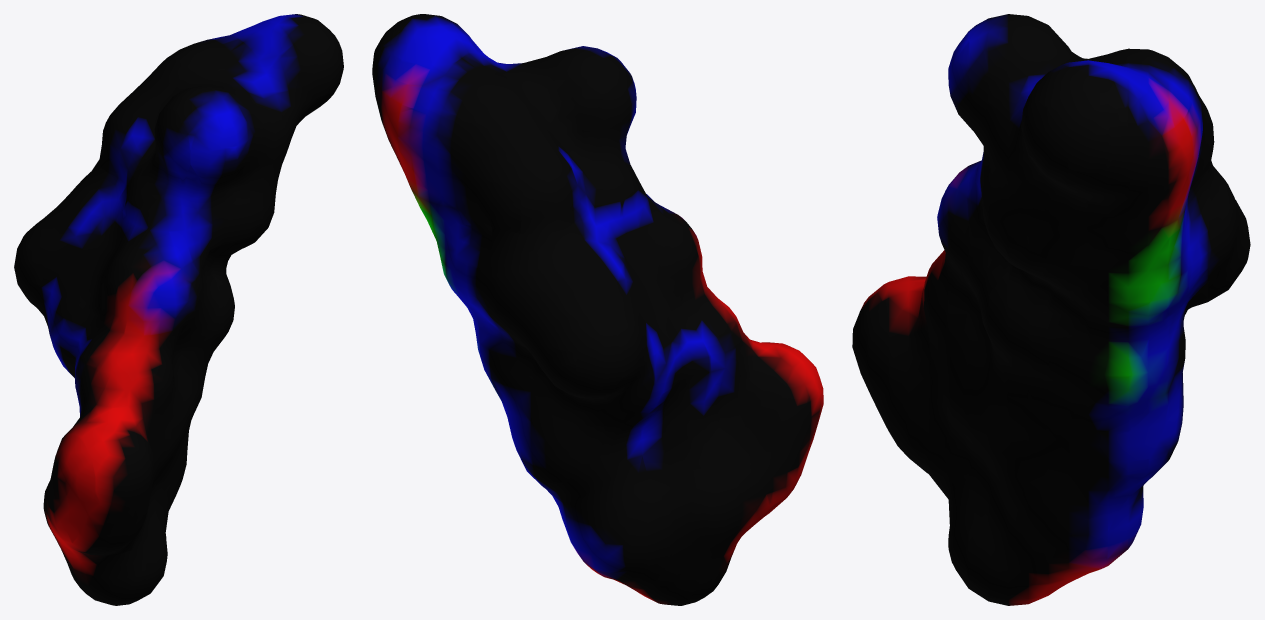
Rendered from Blob.dae.
3 views of the same model, side by side, from view 1: azimuth 30°, elevation 25°; view 2: azimuth 150°, elevation 25°; view 3: azimuth 270°, elevation 25° (orthographic). The views are drawn at different scales.
Parts seen in each view (by area): view 1: Blob; view 2: Blob; view 3: Blob.
Boxes of the visible parts, <box> form: Blob: <box>14,14,343,605</box>; Blob: <box>372,14,823,605</box>; Blob: <box>852,14,1250,605</box>.
Size of the model in its own units: 0.8127 by 0.6354 by 1.17.
